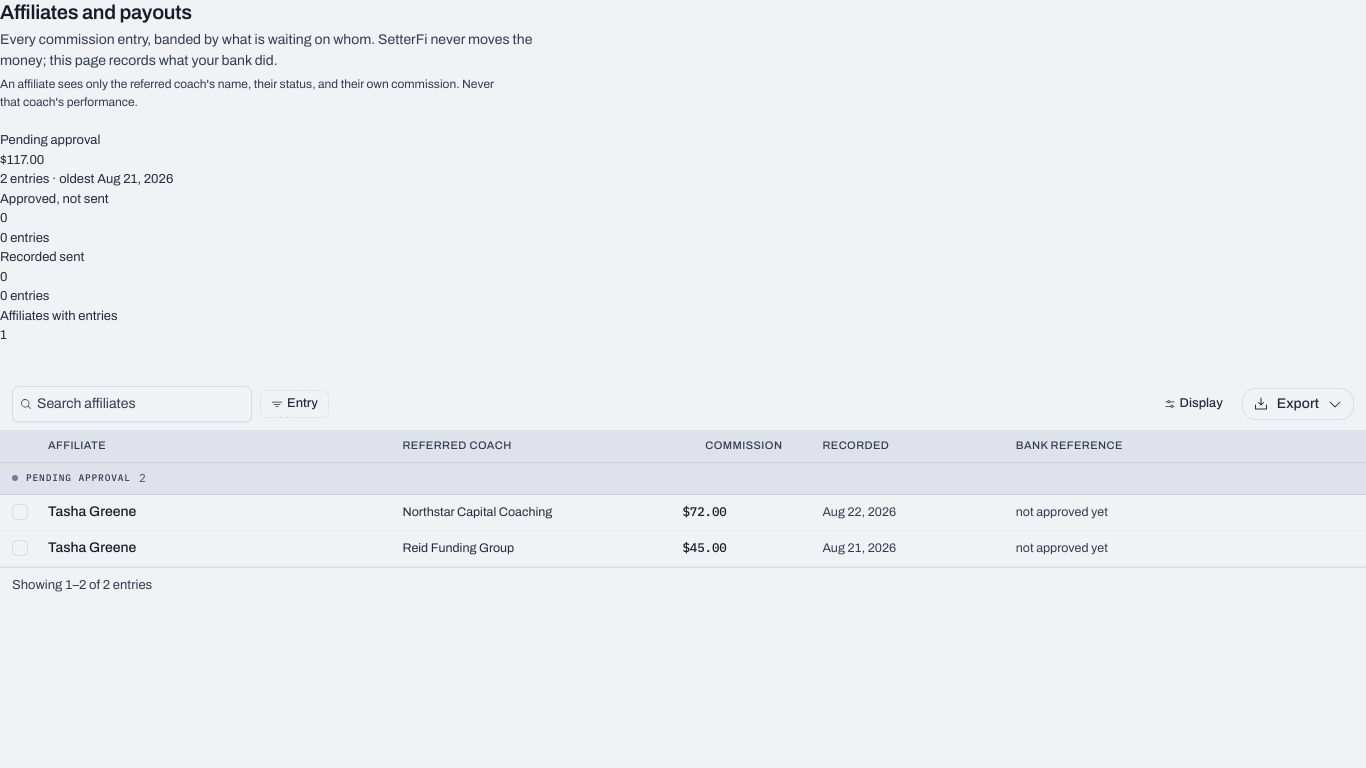
Test: AdminMoneyAffiliates › lists one confirmation line for every selected ledger row
Click the checkbox named "Select commission row for Reid Funding Group, $45.00": (20, 548) [12,540,28,556]
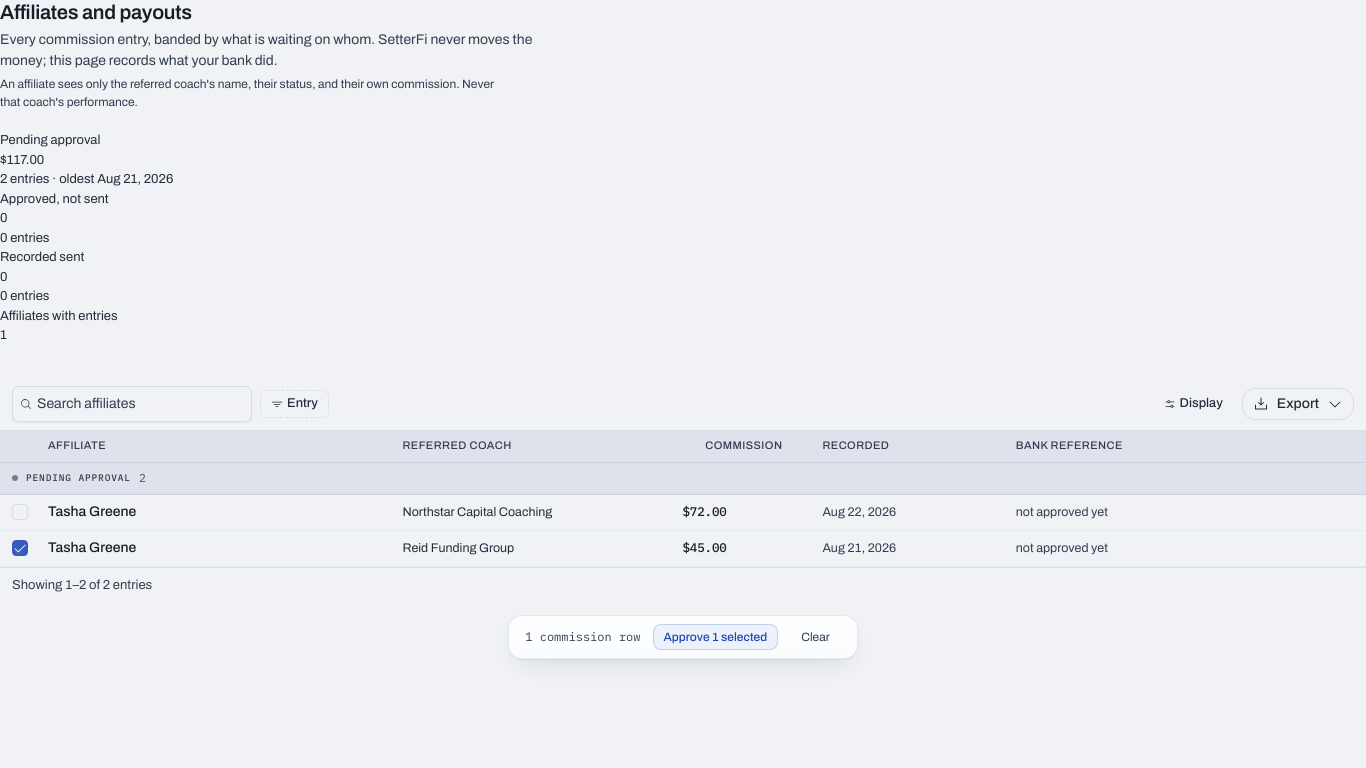
Click the checkbox named "Select commission row for Northstar Capital Coaching, $72.00": (20, 512) [12,504,28,520]
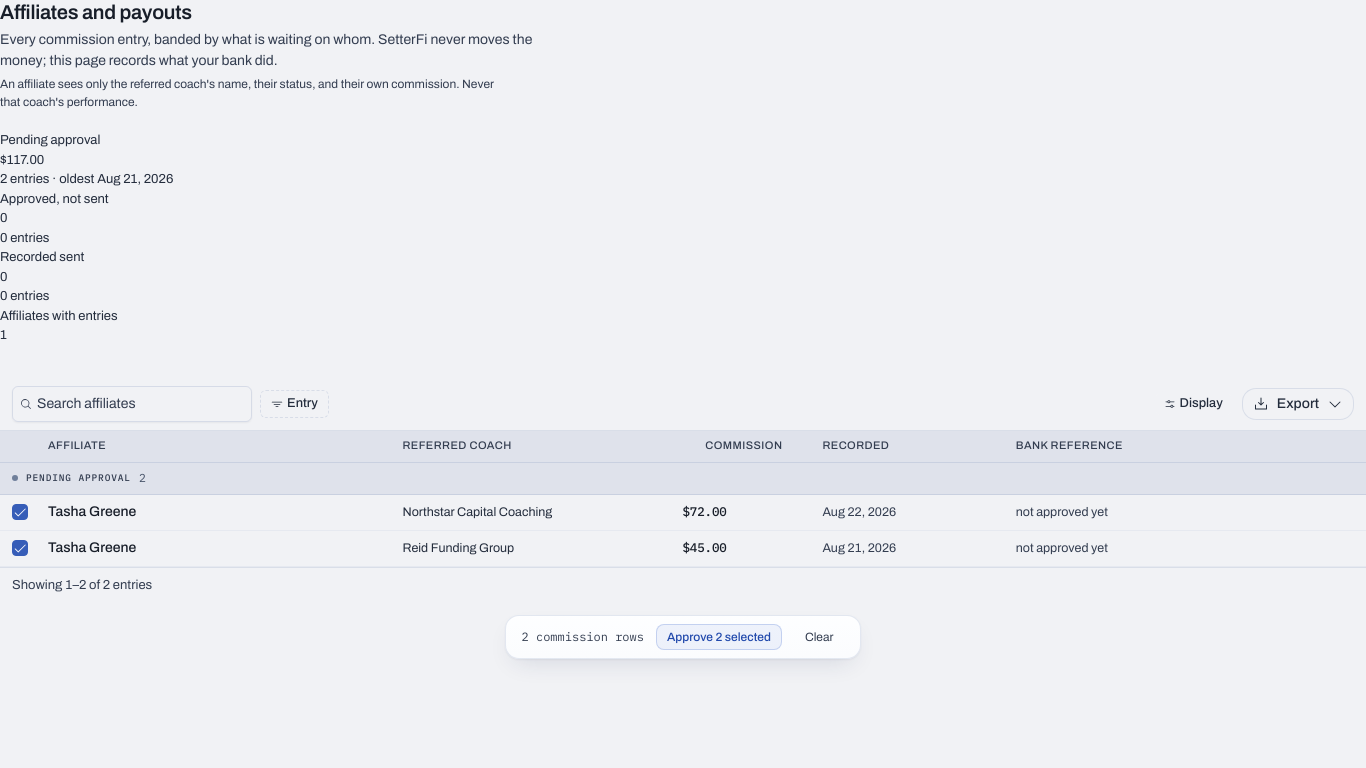
Click the button "Approve 2 selected": (719, 637) [656,624,782,650]
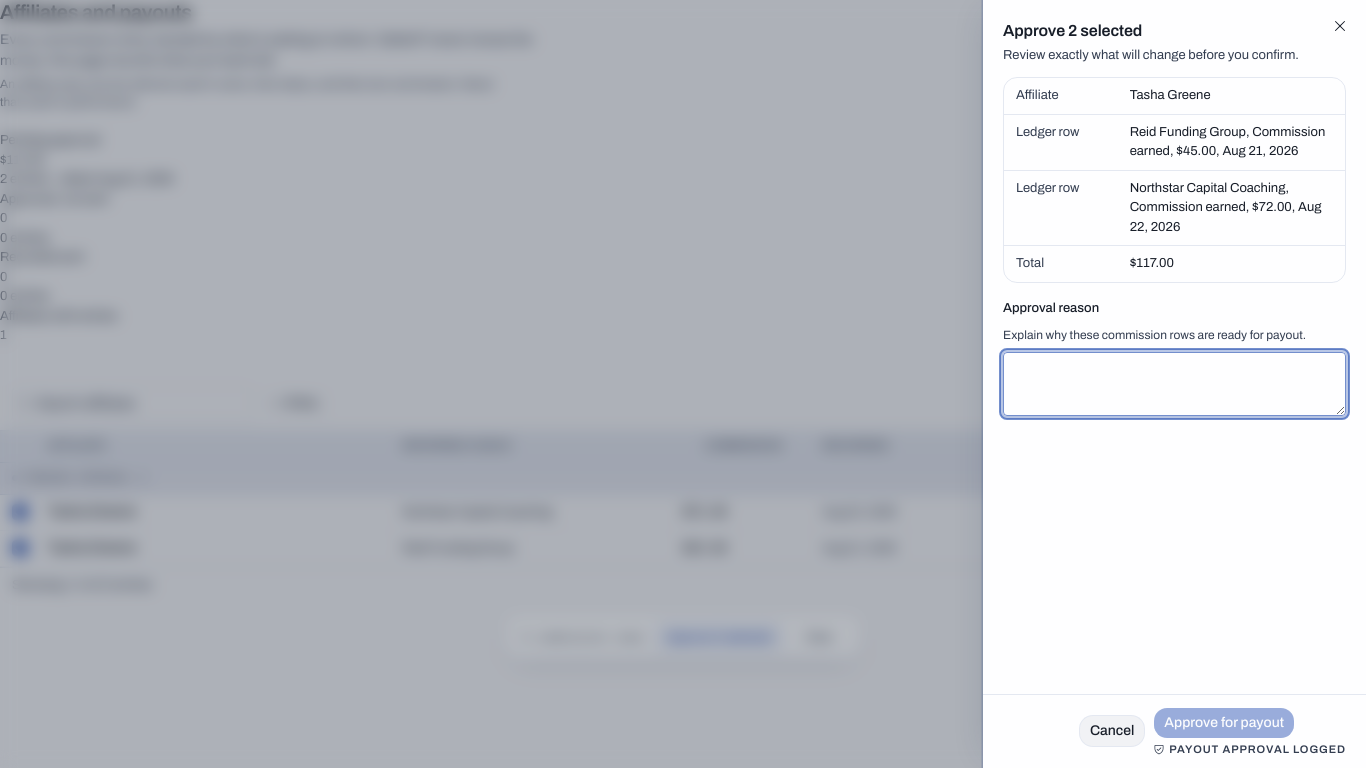
Expected: the text "Ledger row" is shown 2 times, [1016,125,1080,139]; [1016,181,1080,195]
Expected: the text "Reid Funding Group, Commission earned, $45.00, Aug 21, 2026" is shown, [1130,123,1333,162]
Expected: the text "Northstar Capital Coaching, Commission earned, $72.00" is shown, [1130,181,1322,234]
